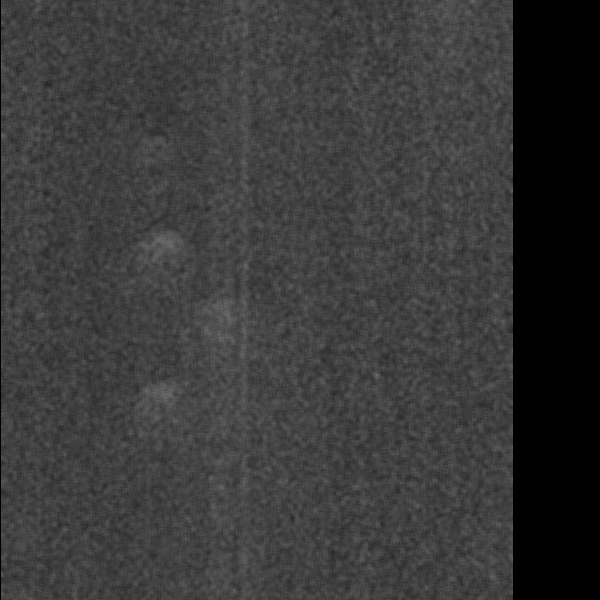spark: (52, 483, 137, 589), (218, 5, 257, 42), (452, 574, 492, 600), (432, 301, 477, 323)
